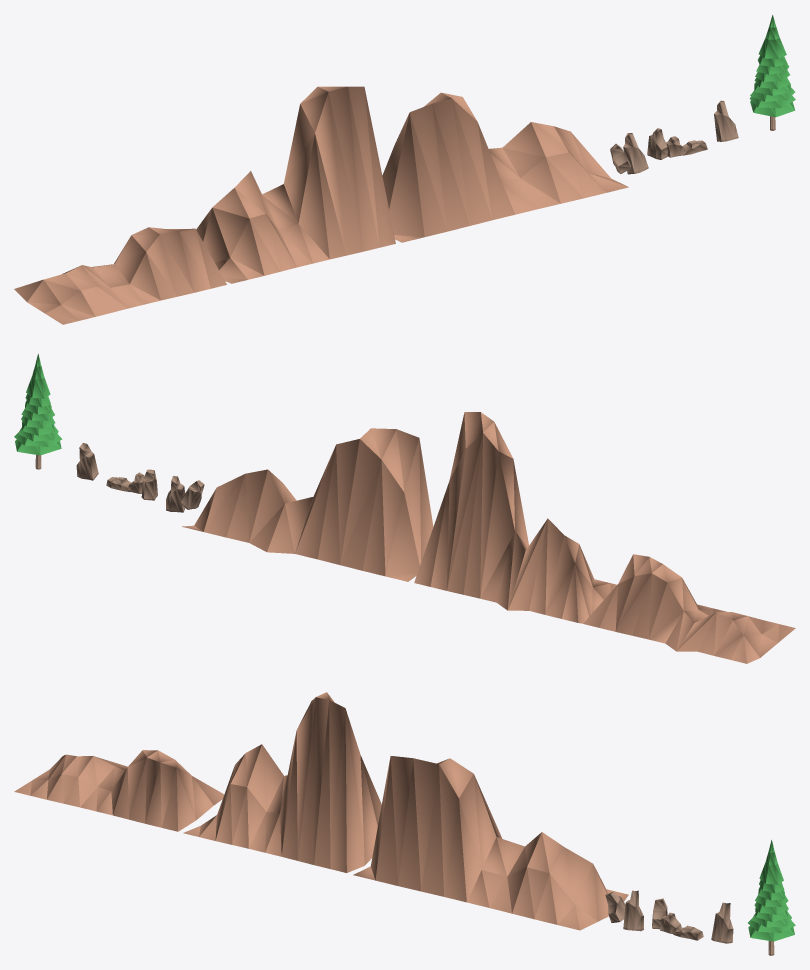
File: LowPolyGameLevel.fbx
The picture shows the model from 3 angles, top to bottom: view 1: azimuth 30°, elevation 25°; view 2: azimuth 150°, elevation 25°; view 3: azimuth 330°, elevation 25°; orthographic projection.
Visible parts, largest first — view 1: LPGL_Hill_2, LPGL_Hill_3, LPGL_Hill_1, LPGL_Tree, LPGL_Rocks_2, LPGL_Rocks_1, LPGL_Rocks_3; view 2: LPGL_Hill_3, LPGL_Hill_2, LPGL_Hill_1, LPGL_Tree, LPGL_Rocks_1, LPGL_Rocks_2, LPGL_Rocks_3; view 3: LPGL_Hill_3, LPGL_Hill_2, LPGL_Hill_1, LPGL_Tree, LPGL_Rocks_1, LPGL_Rocks_2, LPGL_Rocks_3.
Part boxes in pixels (x1,y1,x2,y2): LPGL_Hill_2: [196, 86, 395, 283]; LPGL_Hill_3: [382, 92, 628, 242]; LPGL_Hill_1: [14, 227, 226, 324]; LPGL_Tree: [749, 15, 795, 130]; LPGL_Rocks_2: [647, 128, 707, 159]; LPGL_Rocks_1: [610, 133, 648, 174]; LPGL_Rocks_3: [714, 100, 738, 141]; LPGL_Hill_3: [182, 428, 433, 581]; LPGL_Hill_2: [414, 412, 616, 623]; LPGL_Hill_1: [583, 554, 795, 663]; LPGL_Tree: [14, 354, 62, 469]; LPGL_Rocks_1: [166, 476, 204, 512]; LPGL_Rocks_2: [106, 469, 157, 500]; LPGL_Rocks_3: [76, 443, 98, 480]; LPGL_Hill_3: [353, 756, 628, 930]; LPGL_Hill_2: [183, 692, 381, 872]; LPGL_Hill_1: [14, 750, 224, 831]; LPGL_Tree: [748, 840, 795, 955]; LPGL_Rocks_1: [605, 890, 643, 931]; LPGL_Rocks_2: [652, 898, 703, 940]; LPGL_Rocks_3: [711, 902, 733, 943].
Size of the model in its own units: 1715 by 360 by 212.
